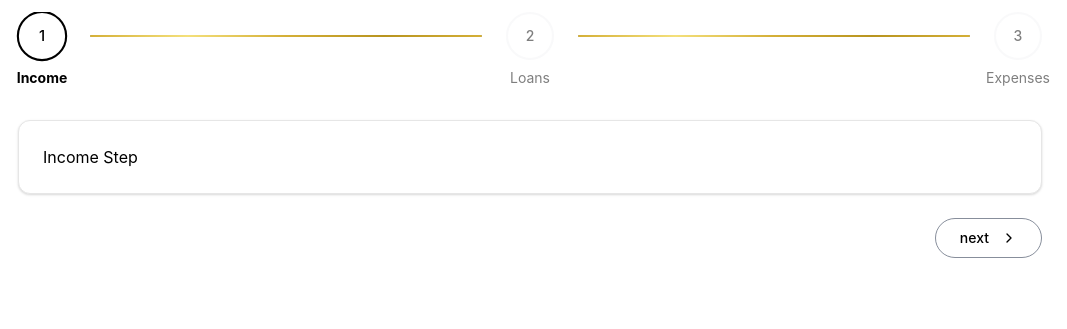
Test: WizardLayout › prevents navigation from income step when no income is provided
Note: Try to navigate to next step
Click the button "next" at (988, 238), box [935, 218, 1042, 258]
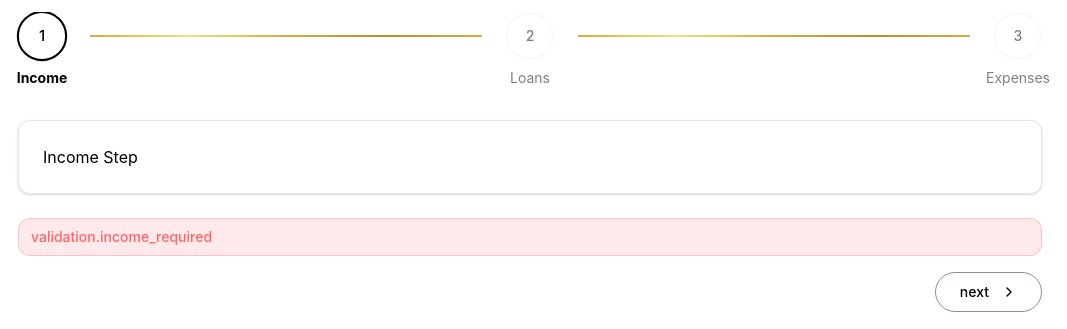
Expected: the text "validation.income_required" is shown, [18, 218, 1042, 256]
